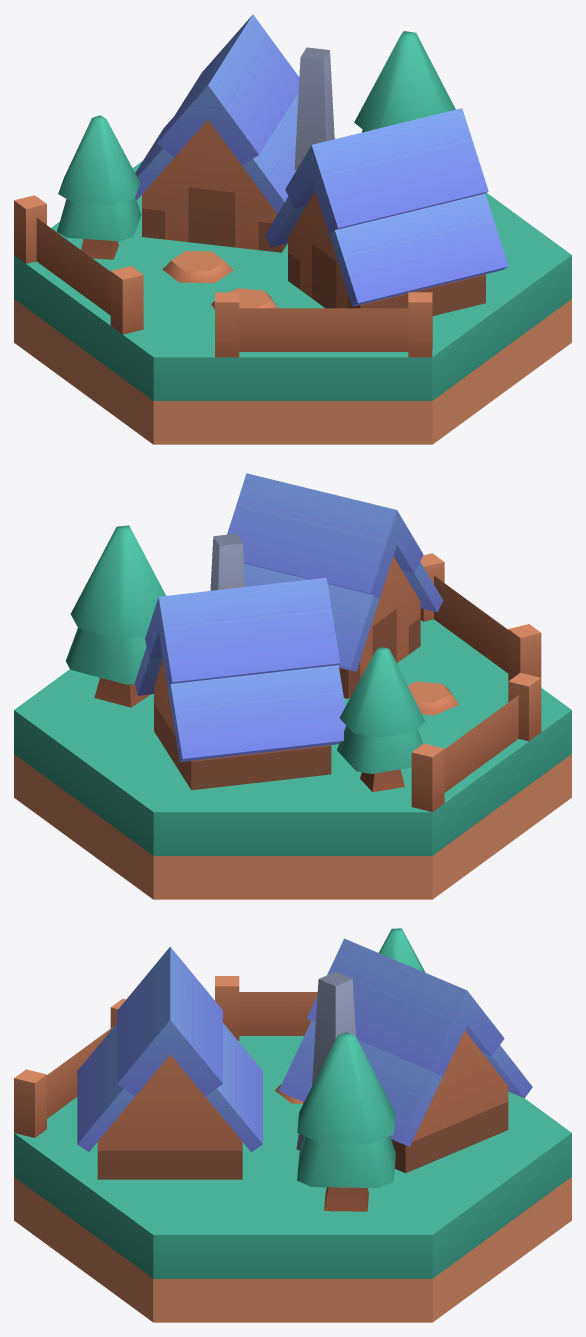
The model's file is kenney-hexagon-building-village.glb.
The picture shows the model from 3 angles, top to bottom: view 1: azimuth 30°, elevation 25°; view 2: azimuth 150°, elevation 25°; view 3: azimuth 270°, elevation 25°; orthographic projection.
Visible parts, largest first — view 1: building_village; view 2: building_village; view 3: building_village.
Boxes of the visible parts, <box> form: building_village: <box>14,14,571,444</box>; building_village: <box>14,473,571,899</box>; building_village: <box>14,928,571,1322</box>.
Size of the model in its own units: 1 by 0.6 by 1.15.
1 material, 1 textured.
